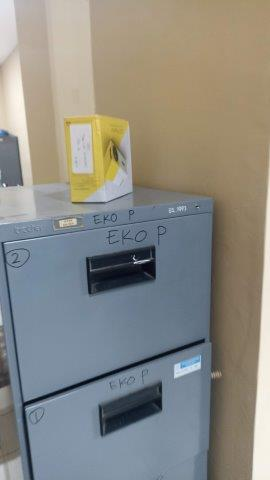kardus: (65, 115, 132, 202)
